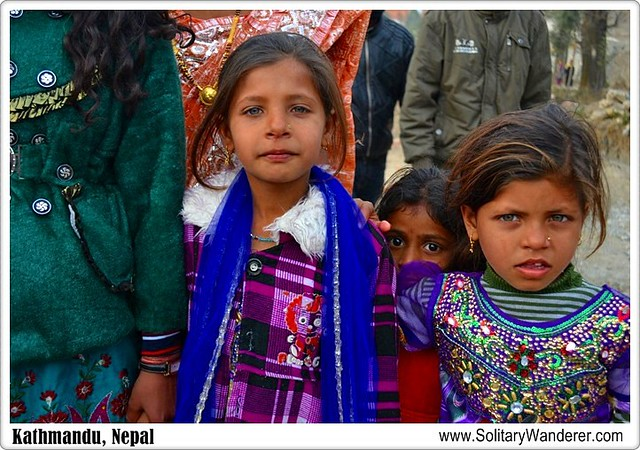human: (172, 30, 377, 424), (404, 109, 630, 424)
